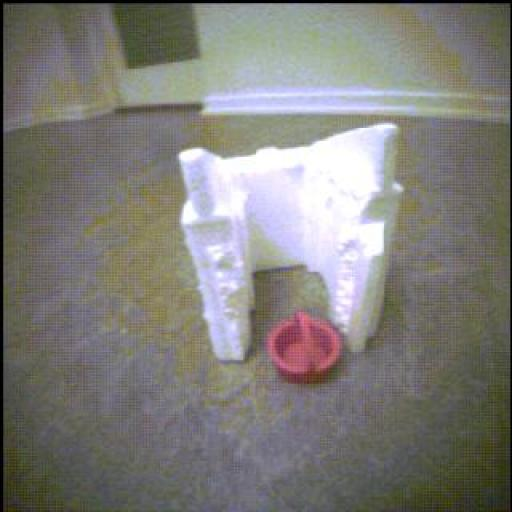Bucket: (268, 312, 342, 384)
